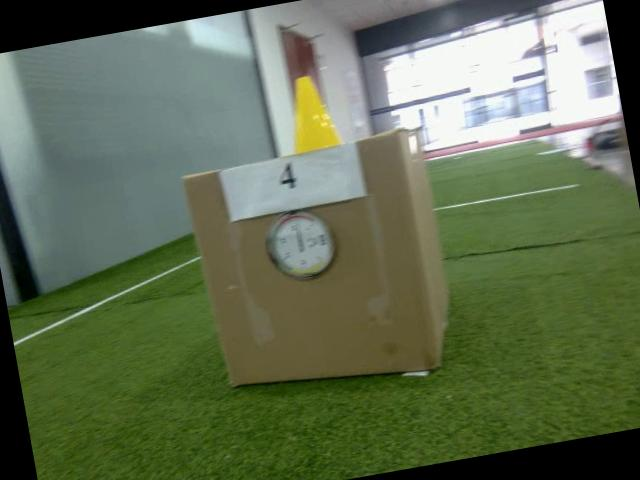4: (276, 160, 298, 190)
Dashboard: (260, 203, 339, 285)
ssi: (318, 233, 327, 246)
yellow_barrel: (280, 72, 341, 154)
